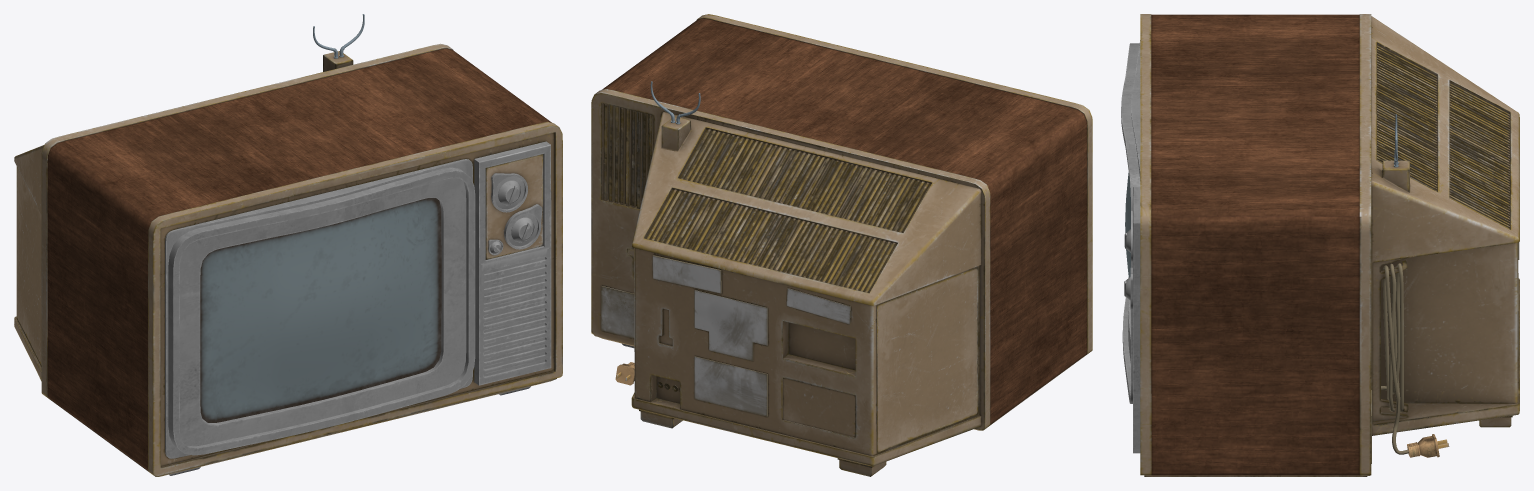
The model's file is VintageTv.fbx.
3 renders of one model, left to right at view 1: azimuth 30°, elevation 25°; view 2: azimuth 150°, elevation 25°; view 3: azimuth 270°, elevation 25°, orthographic. The views are drawn at different scales.
Parts seen in each view (by area): view 1: IV.003; view 2: IV.003; view 3: IV.003.
Part boxes in pixels (x1,y1,x2,y2): IV.003: (14, 14, 562, 476); IV.003: (591, 14, 1092, 476); IV.003: (1121, 14, 1519, 476).
Size of the model in its own units: 1827 by 1289 by 1495.
